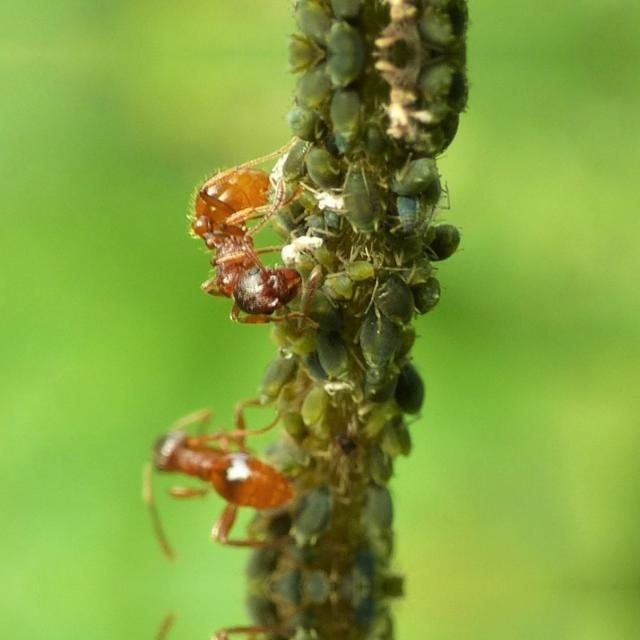Myrmica: (155, 135, 331, 333), (152, 392, 312, 536)
